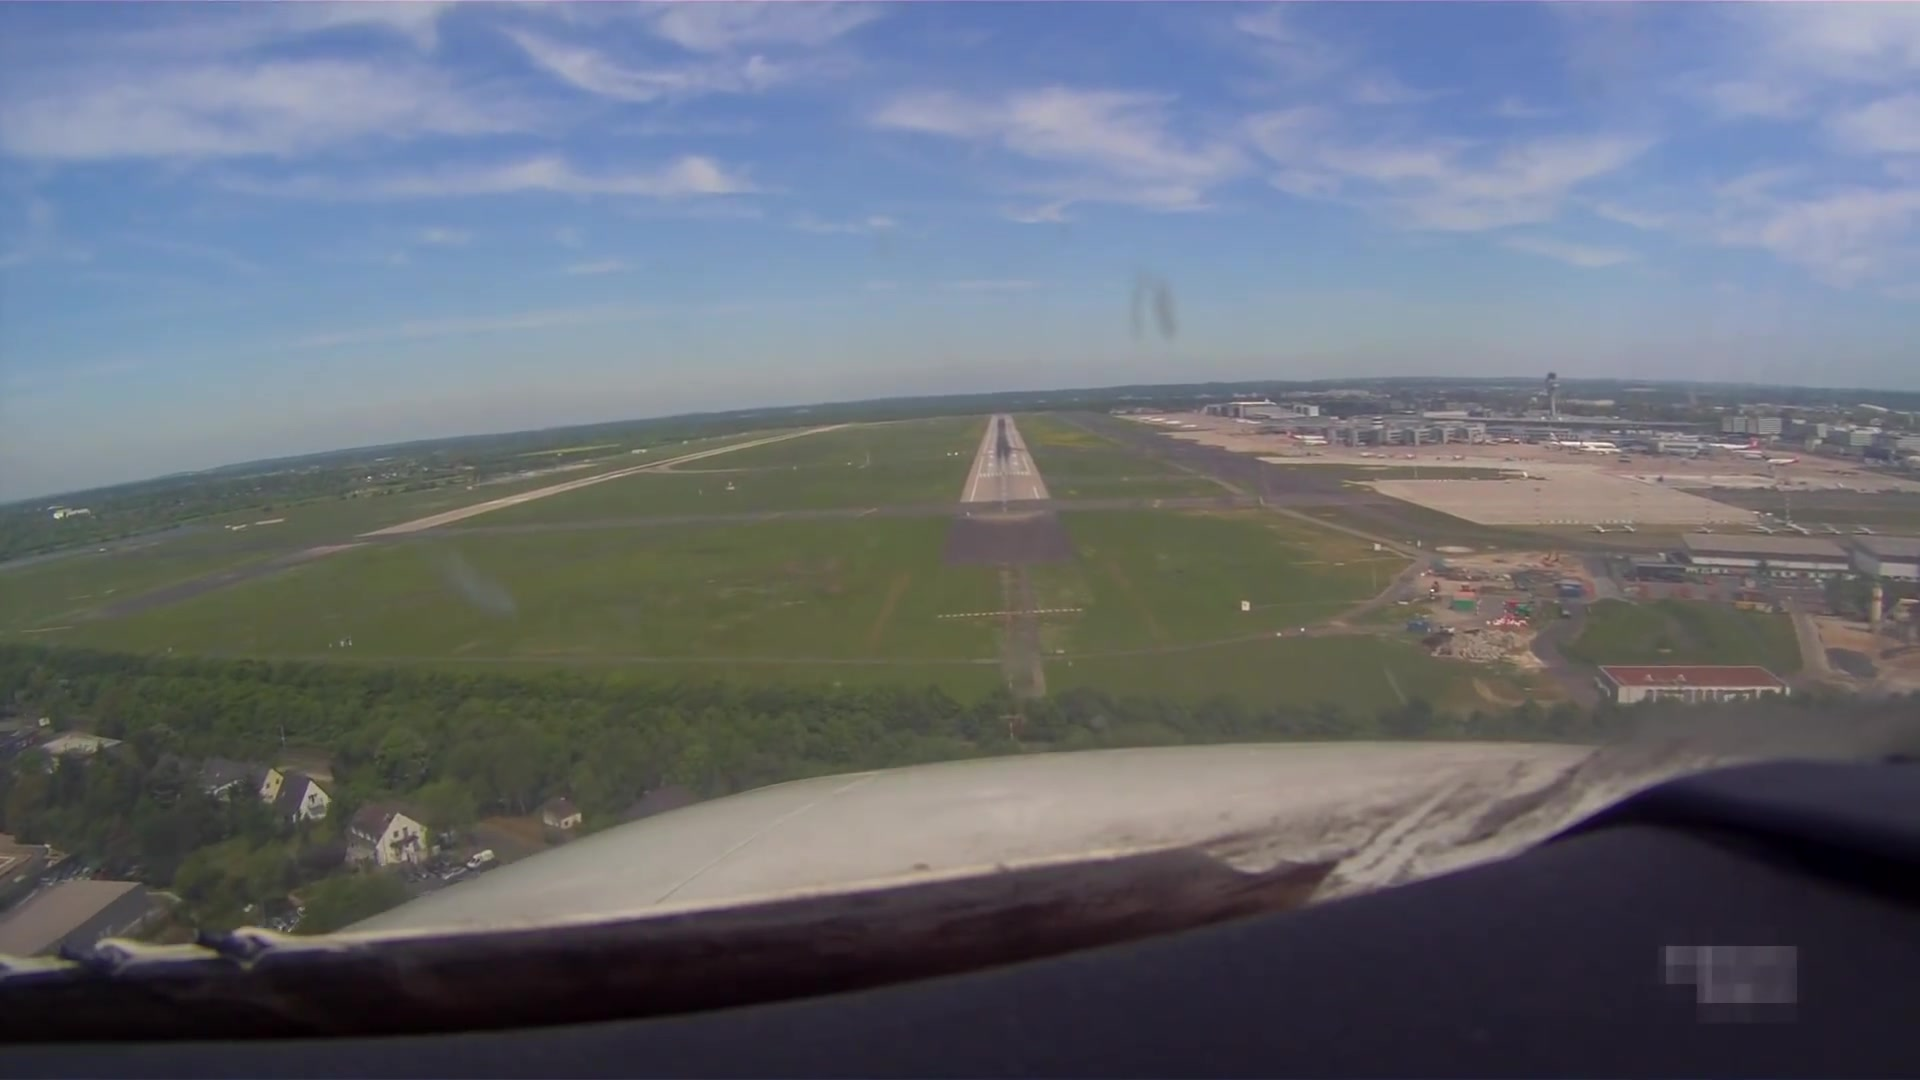entrance: (975, 469, 1033, 480)
runway: (959, 415, 1054, 502)
